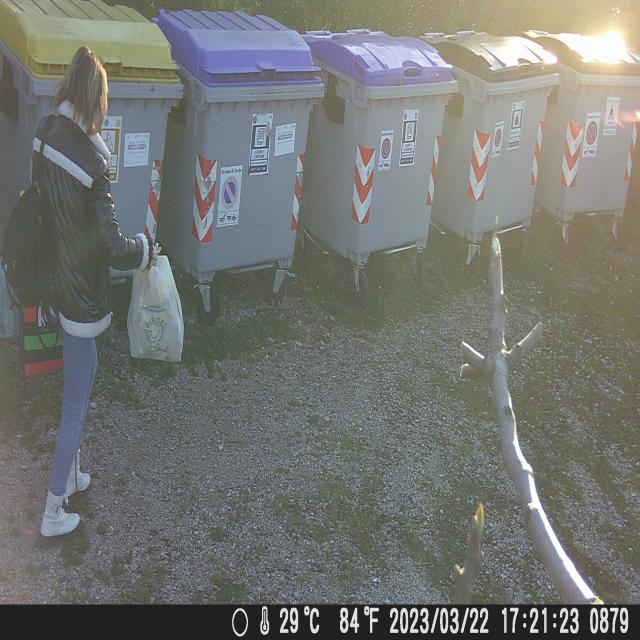sampah-detection: (128, 238, 186, 367)
